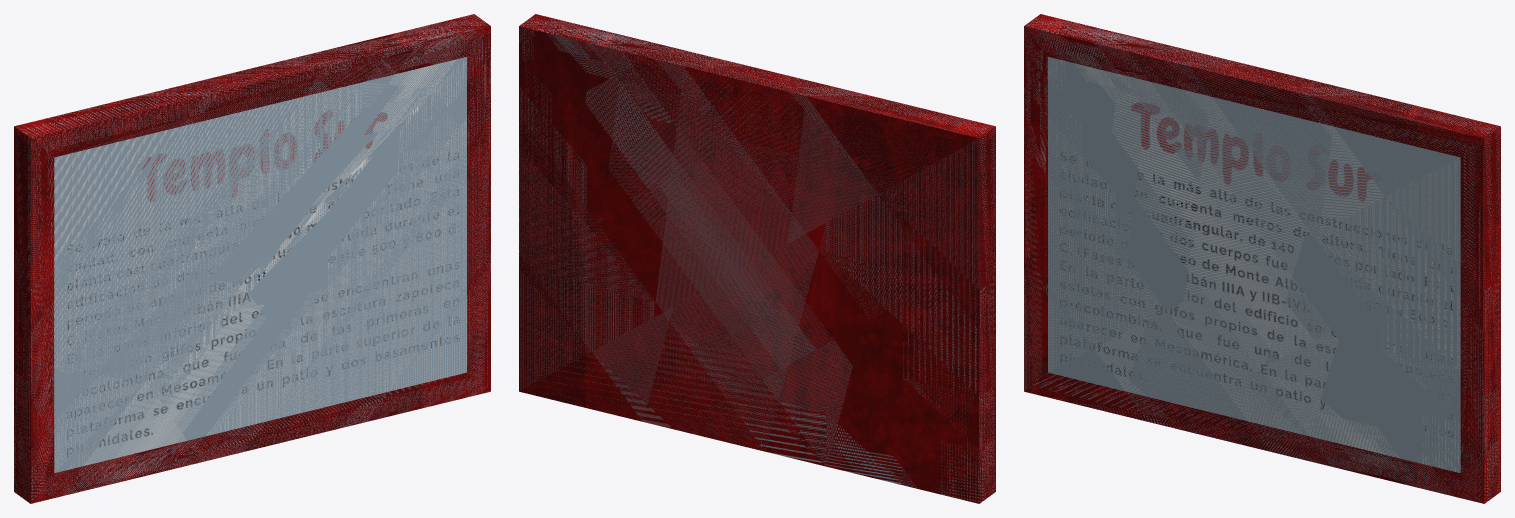
The model's file is templosur.obj.
3 views of the same model, side by side, from view 1: azimuth 30°, elevation 25°; view 2: azimuth 150°, elevation 25°; view 3: azimuth 330°, elevation 25° (orthographic).
Visible parts, largest first — view 1: Mesh1 Model; view 2: Mesh1 Model; view 3: Mesh1 Model.
Boxes of the visible parts, bbox=[...] form: Mesh1 Model: bbox=[14, 14, 490, 503]; Mesh1 Model: bbox=[519, 14, 995, 503]; Mesh1 Model: bbox=[1024, 14, 1500, 503].
Bounding box in the file's own units: 90.81 × 68.94 × 5.62.
